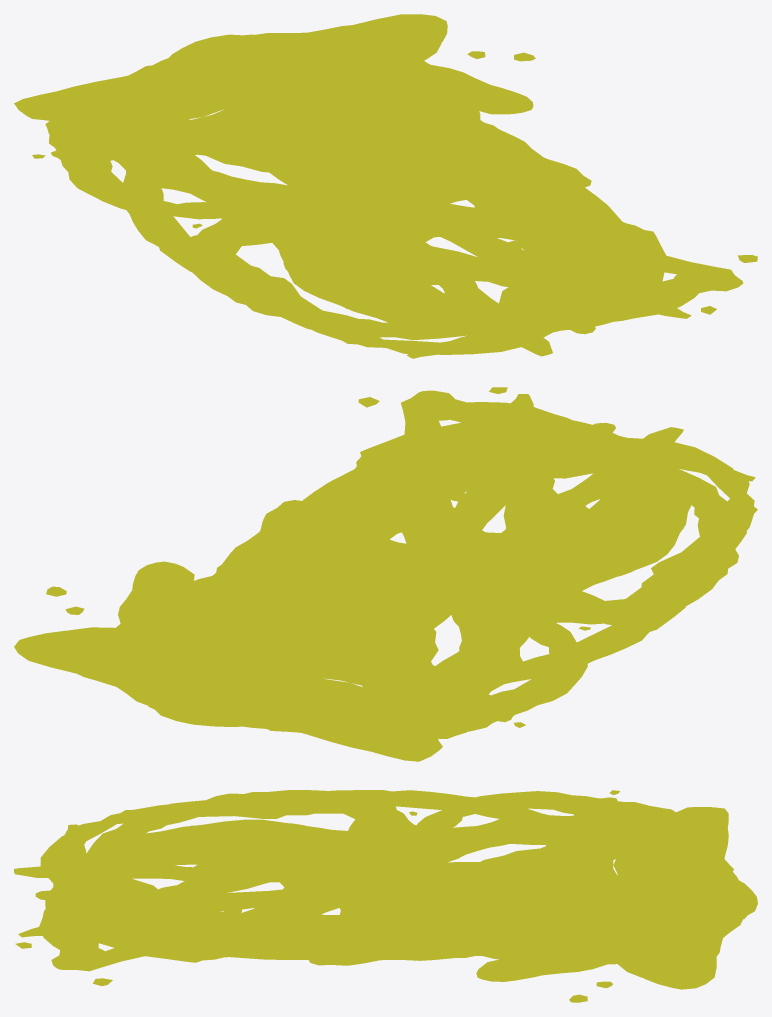
The model's file is pauseText.obj.
3 views of the same model, one above another, from view 1: azimuth 30°, elevation 25°; view 2: azimuth 150°, elevation 25°; view 3: azimuth 270°, elevation 25° (orthographic). The views are drawn at different scales.
Parts seen in each view (by area): view 1: eight, zero, three, one, two, nine, six, four, five, seven; view 2: eight, zero, three, two, one, nine, four, six, five, seven; view 3: eight, three, zero, four, two, five, one, nine, six, seven.
Boxes of the visible parts, x1,y1,x2,y2 form: eight: (49, 64, 757, 340); zero: (121, 55, 617, 354); three: (14, 14, 663, 332); one: (163, 34, 595, 334); two: (93, 51, 743, 358); nine: (113, 32, 716, 318); six: (135, 62, 665, 333); four: (163, 53, 591, 356); five: (32, 53, 701, 325); seven: (45, 23, 649, 304); eight: (217, 397, 746, 733); zero: (152, 433, 757, 712); three: (14, 414, 691, 761); two: (65, 390, 755, 724); one: (86, 422, 615, 726); nine: (46, 387, 561, 728); four: (194, 427, 683, 718); six: (232, 420, 686, 728); five: (117, 402, 656, 727); seven: (36, 415, 522, 738); eight: (84, 790, 733, 986); three: (45, 807, 728, 989); zero: (40, 790, 710, 960); four: (14, 792, 704, 965); two: (51, 815, 695, 988); five: (39, 790, 660, 962); one: (35, 873, 757, 981); nine: (15, 823, 744, 1002); six: (64, 821, 726, 962); seven: (63, 806, 697, 982).
Bounding box in the file's own units: 0.0634 × 0 × 0.0938.
